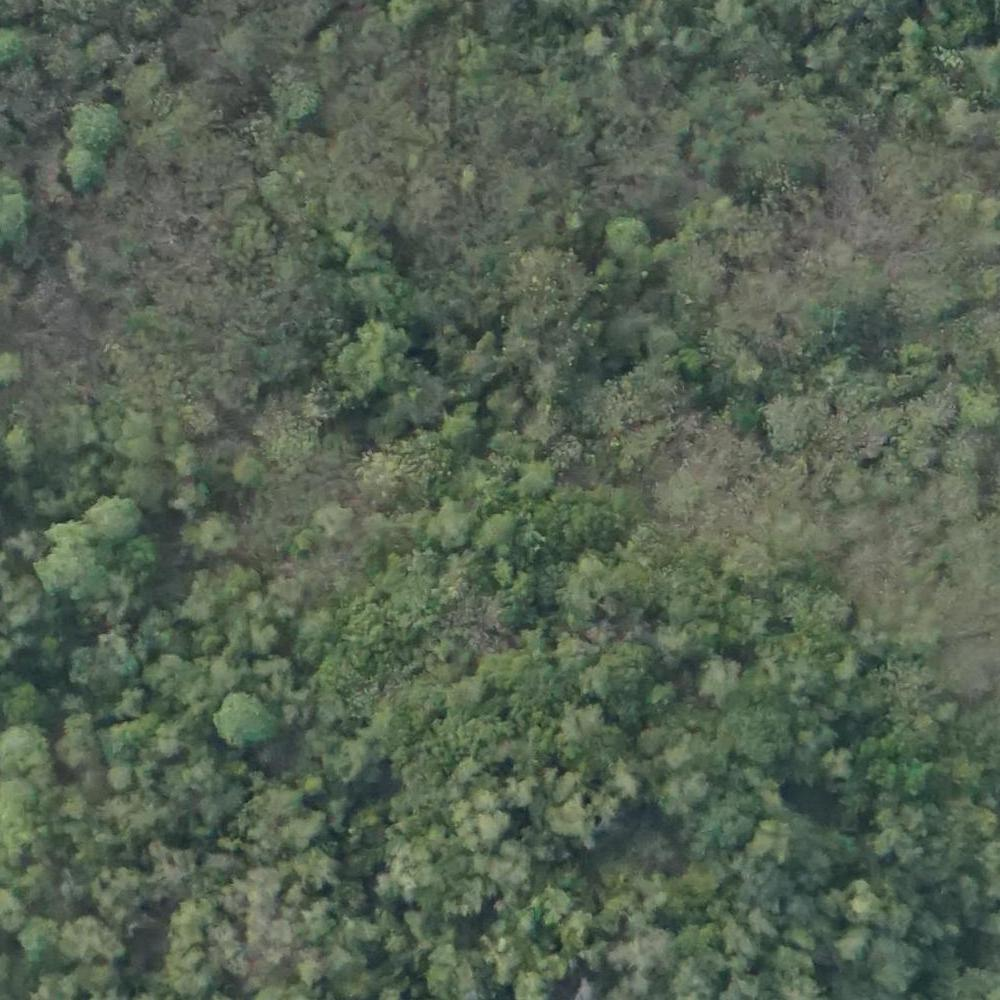tree: (565, 567, 631, 628), (29, 546, 97, 604), (206, 689, 272, 744), (341, 330, 399, 390), (657, 471, 708, 531), (758, 395, 812, 451), (726, 541, 782, 595), (256, 793, 309, 850), (455, 784, 503, 845), (1, 721, 54, 774), (277, 63, 325, 121), (875, 809, 928, 860), (54, 709, 102, 763), (66, 101, 121, 145), (100, 715, 157, 756), (478, 505, 521, 555), (564, 702, 608, 749), (603, 213, 647, 259), (431, 406, 474, 453), (355, 439, 398, 486), (142, 657, 186, 702), (92, 490, 135, 536), (196, 507, 238, 551), (702, 658, 745, 700), (752, 816, 790, 862), (1, 176, 30, 234), (663, 770, 704, 810), (843, 881, 882, 923), (430, 499, 469, 540), (237, 451, 273, 493), (152, 844, 188, 886), (69, 149, 108, 186), (299, 900, 335, 936), (295, 849, 328, 887), (516, 461, 548, 500), (835, 926, 870, 961), (444, 669, 476, 703), (103, 762, 132, 788)
